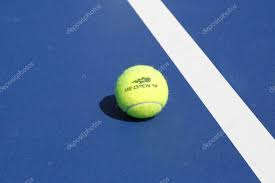tennis_ball: (115, 65, 168, 119)
